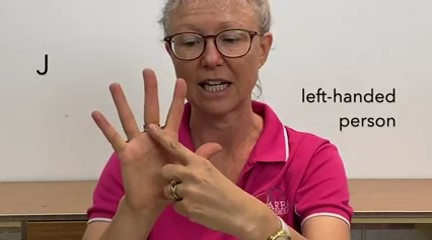J: (82, 61, 257, 233)
